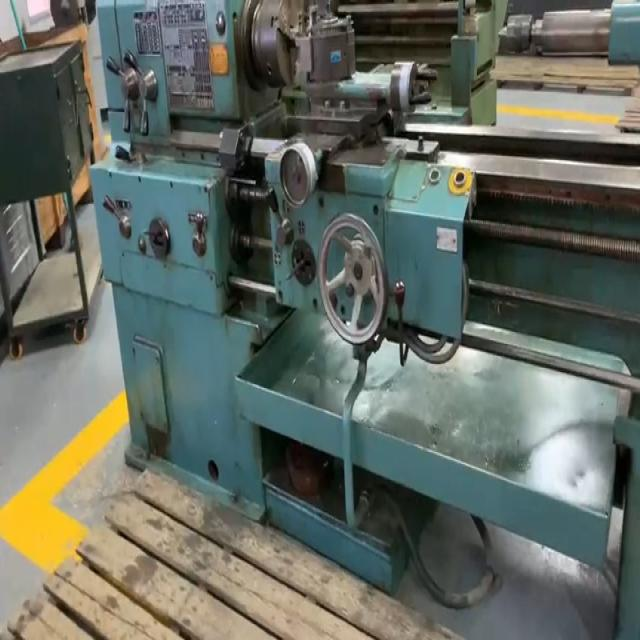tour parallele: (91, 0, 614, 594)
